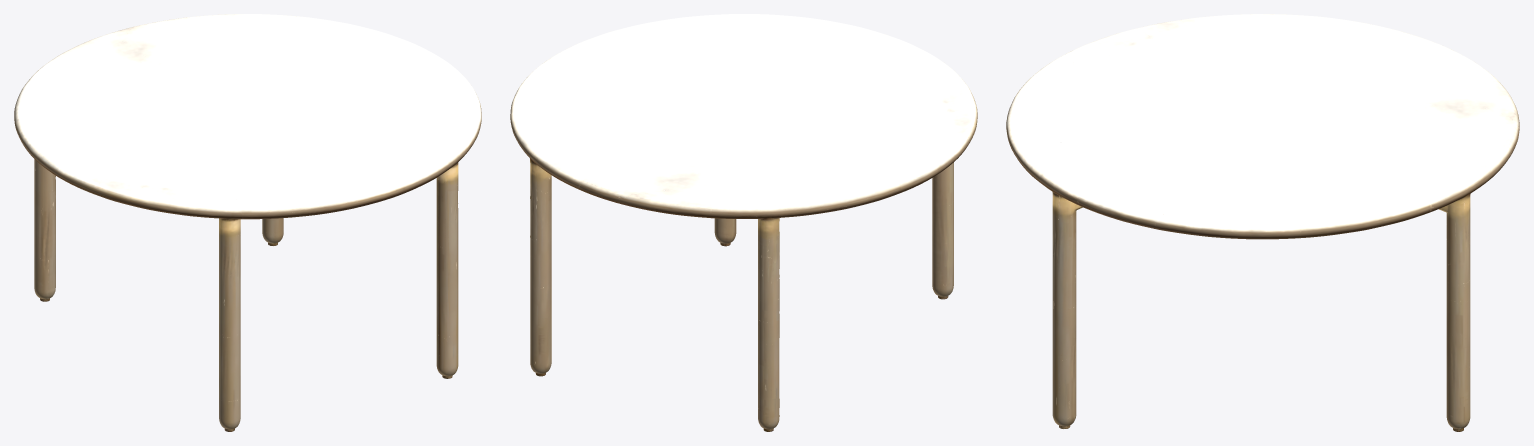
File: Meshy_AI_Nordic_Round_Dining_T_0519062802_image-to-3d-texture.fbx
3 views of the same model, side by side, from view 1: azimuth 30°, elevation 25°; view 2: azimuth 150°, elevation 25°; view 3: azimuth 270°, elevation 25° (orthographic). The views are drawn at different scales.
Parts seen in each view (by area): view 1: Mesh_0; view 2: Mesh_0; view 3: Mesh_0.
Boxes of the visible parts, bbox=[...] form: Mesh_0: bbox=[14, 14, 481, 431]; Mesh_0: bbox=[510, 14, 977, 431]; Mesh_0: bbox=[1006, 14, 1519, 431].
Size of the model in its own units: 190 by 101 by 190.
Materials: 1 (1 with a texture image).
